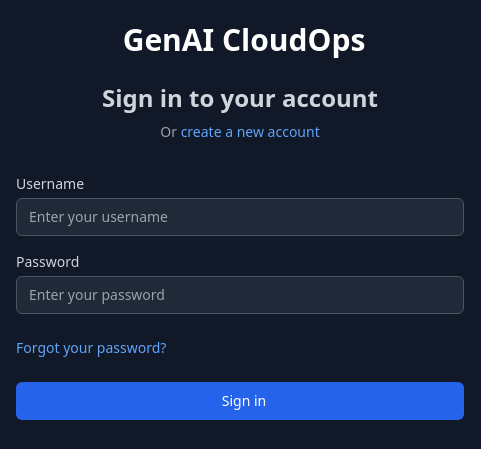
it: LoginForm - Unit Tests › Form Validation › should show validation error for empty username
This screenshot has width=481, height=449.
Type "testpassword" into the password field labelled "Password".
click(240, 295); type("testpassword")  # box [16,276,464,314]
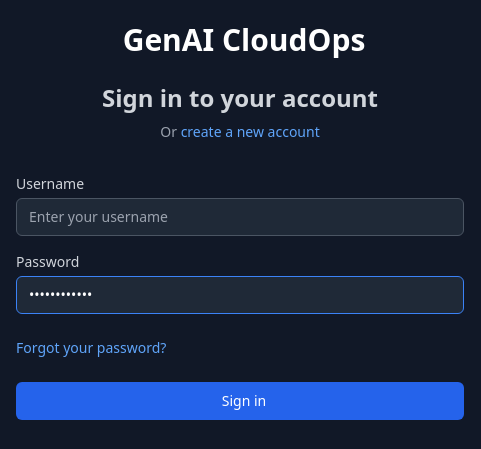
Click the button "Sign in".
click(240, 401)  # box [16,382,464,420]
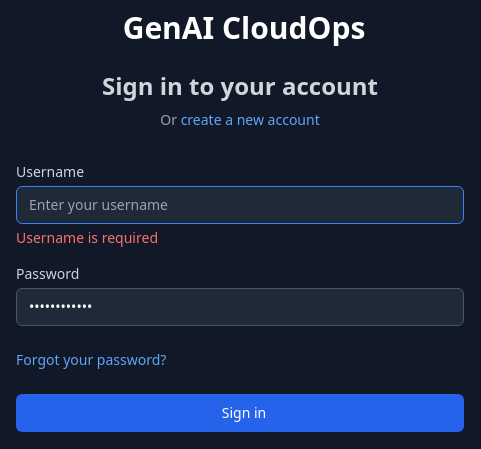
expect the text "Username is required" is shown: met, box [16,228,158,247]
